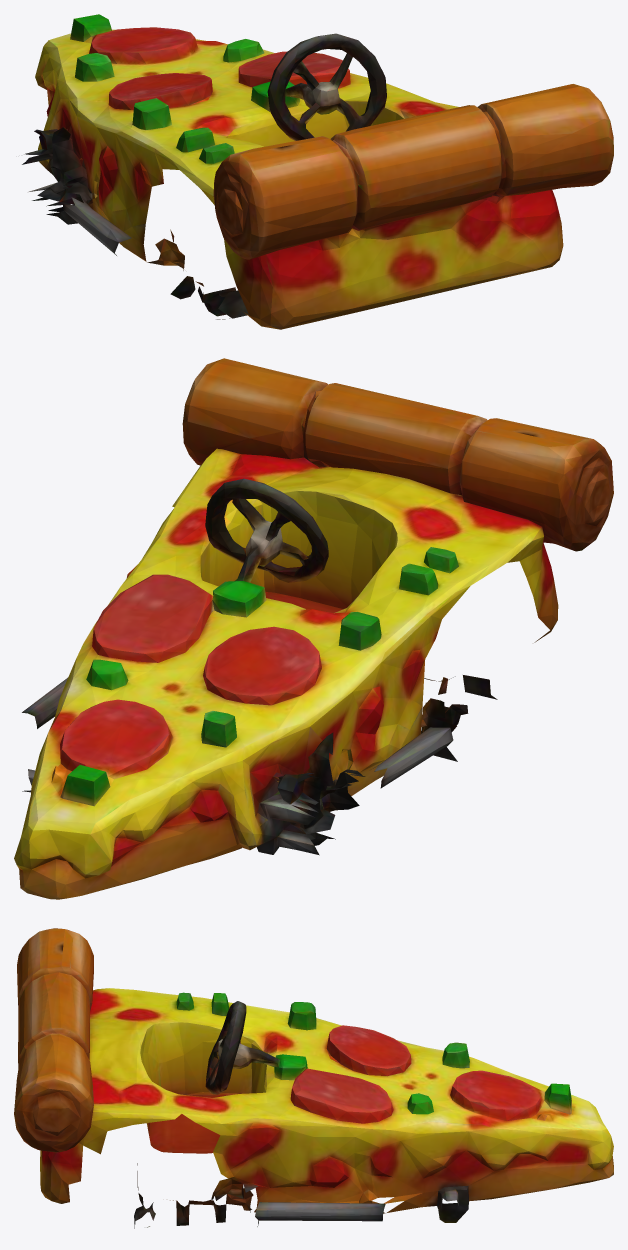
The model's file is cs_v_pizza.glb.
3 views of the same model, one above another, from view 1: azimuth 30°, elevation 25°; view 2: azimuth 150°, elevation 25°; view 3: azimuth 270°, elevation 25° (orthographic). The views are drawn at different scales.
Parts seen in each view (by area): view 1: v_pizza; view 2: v_pizza; view 3: v_pizza.
Part boxes in pixels (x1=…): v_pizza: x1=22, y1=14, x2=613, y2=329; v_pizza: x1=14, y1=358, x2=613, y2=899; v_pizza: x1=14, y1=928, x2=613, y2=1228.
Bounding box in the file's own units: 1.83 × 1.12 × 3.1.
1 material, 1 textured.
